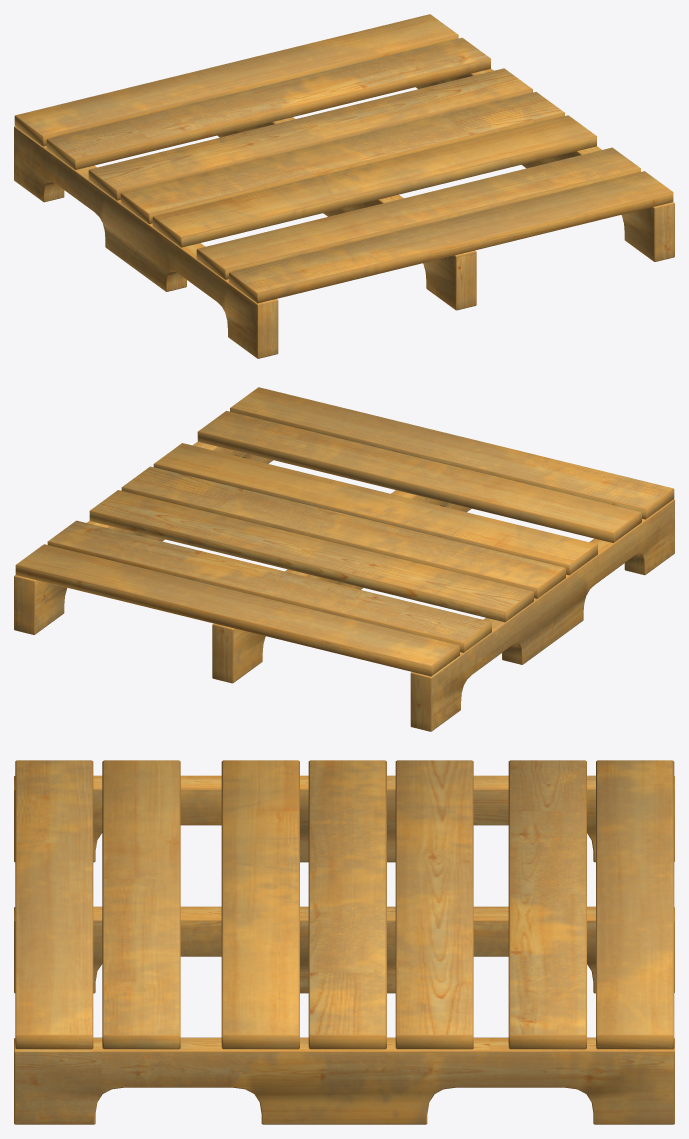
Rendered from Palette.fbx.
3 renders of one model, top to bottom at view 1: azimuth 30°, elevation 25°; view 2: azimuth 150°, elevation 25°; view 3: azimuth 270°, elevation 25°, orthographic. The views are drawn at different scales.
Visible parts, largest first — view 1: Palette; view 2: Palette; view 3: Palette.
Part boxes in pixels (x1,y1,x2,y2): Palette: (14, 14, 674, 358); Palette: (14, 387, 674, 731); Palette: (14, 760, 674, 1124).
Size of the model in its own units: 160 by 24.16 by 162.
1 material, 1 textured.
